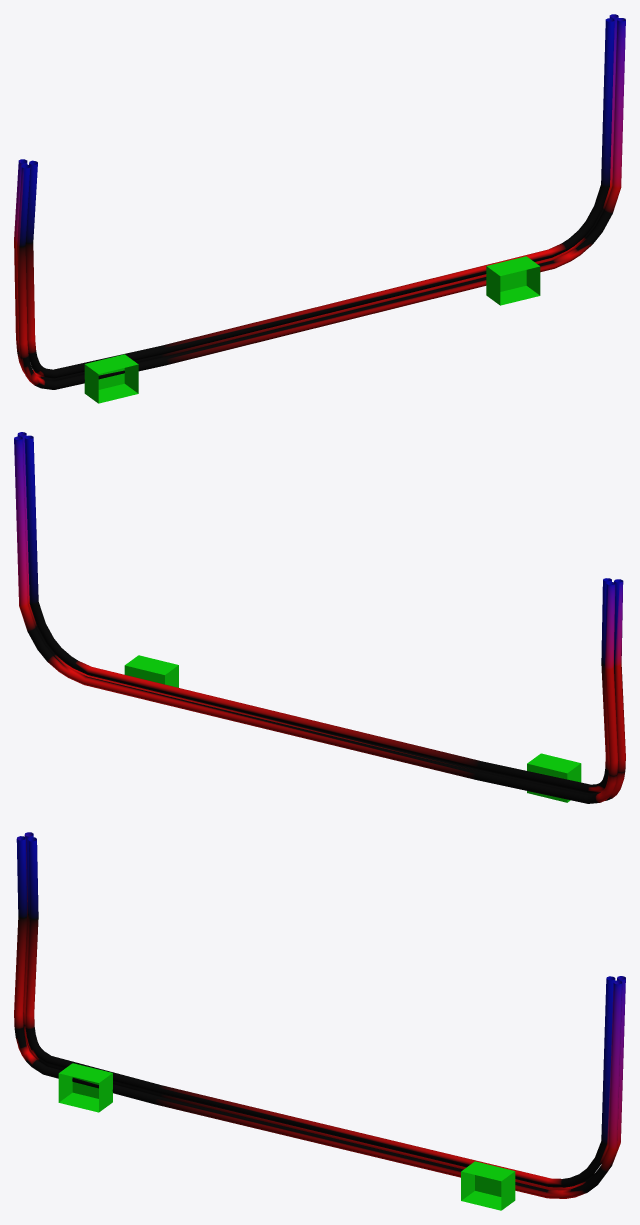
The model's file is SingleCables_V1.fbx.
The picture shows the model from 3 angles, top to bottom: view 1: azimuth 30°, elevation 25°; view 2: azimuth 150°, elevation 25°; view 3: azimuth 330°, elevation 25°; orthographic projection.
Parts seen in each view (by area): view 1: SingleCables_V1; view 2: SingleCables_V1; view 3: SingleCables_V1.
Boxes of the visible parts, left/top/right/bottom form: SingleCables_V1: left=14, top=14, right=625, bottom=403; SingleCables_V1: left=14, top=432, right=625, bottom=803; SingleCables_V1: left=14, top=832, right=625, bottom=1210.
Size of the model in its own units: 302 by 114 by 24.48.
